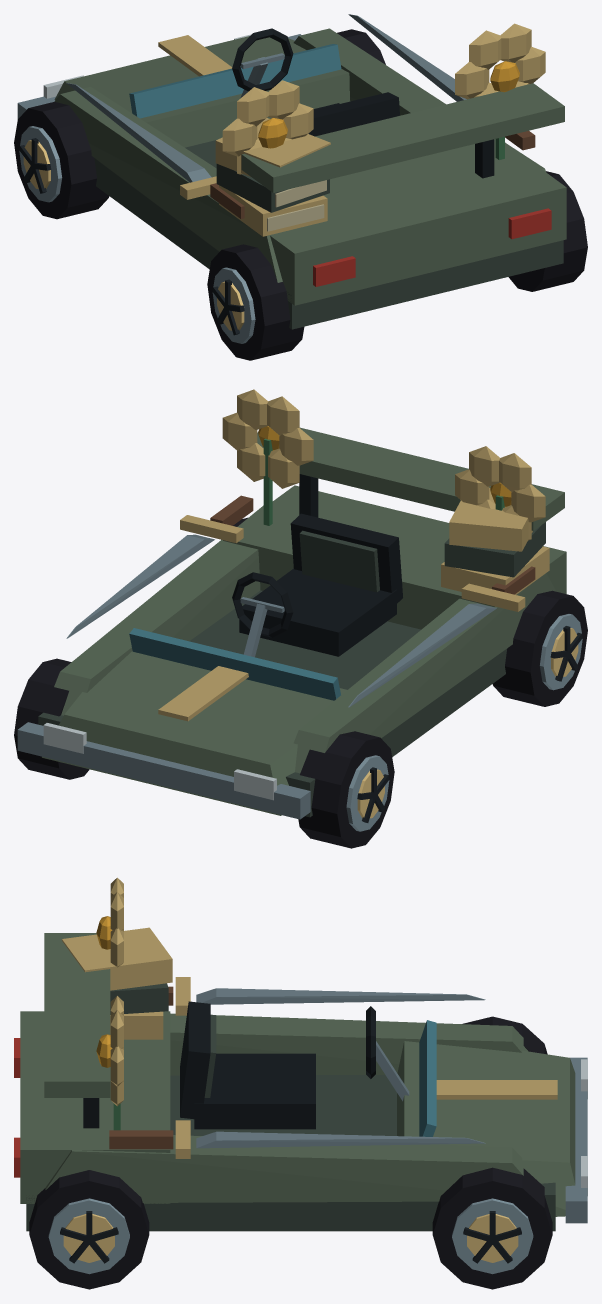
File: kart.glb
3 views of the same model, one above another, from view 1: azimuth 30°, elevation 25°; view 2: azimuth 150°, elevation 25°; view 3: azimuth 270°, elevation 25° (orthographic). The views are drawn at different scales.
Parts seen in each view (by area): view 1: identity-sports-car-sports-car-road-car-body, identity-sports-car-motif-flowers, wheel-front-left, wheel-rear-left, identity-sports-car-motif-books, identity-sports-car-motif-swords, identity-sports-car-driver-cockpit, wheel-rear-right, wheel-front-right; view 2: identity-sports-car-sports-car-road-car-body, identity-sports-car-driver-cockpit, identity-sports-car-motif-flowers, wheel-front-left, identity-sports-car-motif-swords, wheel-rear-left, identity-sports-car-motif-books, wheel-front-right; view 3: identity-sports-car-sports-car-road-car-body, identity-sports-car-driver-cockpit, wheel-front-right, wheel-rear-right, identity-sports-car-motif-swords, identity-sports-car-motif-books, identity-sports-car-motif-flowers, wheel-front-left.
Boxes of the visible parts, box(x1,y1,x2,y2) form: identity-sports-car-sports-car-road-car-body: box(17, 28, 566, 329); identity-sports-car-motif-flowers: box(222, 23, 545, 174); wheel-front-left: box(14, 102, 109, 219); wheel-rear-left: box(207, 244, 304, 360); identity-sports-car-motif-books: box(215, 118, 330, 236); identity-sports-car-motif-swords: box(66, 14, 535, 218); identity-sports-car-driver-cockpit: box(232, 28, 399, 136); wheel-rear-right: box(508, 171, 587, 291); wheel-front-right: box(337, 29, 385, 64); identity-sports-car-sports-car-road-car-body: box(17, 427, 566, 819); identity-sports-car-driver-cockpit: box(232, 513, 402, 657); identity-sports-car-motif-flowers: box(222, 389, 545, 540); wheel-front-left: box(298, 731, 394, 848); identity-sports-car-motif-swords: box(66, 495, 535, 707); wheel-rear-left: box(492, 590, 587, 706); identity-sports-car-motif-books: box(441, 488, 549, 594); wheel-front-right: box(14, 658, 89, 779); identity-sports-car-sports-car-road-car-body: box(14, 933, 587, 1231); identity-sports-car-driver-cockpit: box(180, 1001, 409, 1129); wheel-front-right: box(432, 1167, 552, 1289); wheel-rear-right: box(29, 1170, 149, 1289); identity-sports-car-motif-swords: box(109, 977, 485, 1158); identity-sports-car-motif-books: box(62, 927, 172, 1039); identity-sports-car-motif-flowers: box(96, 877, 123, 1130); wheel-front-left: box(462, 1016, 547, 1054).
Size of the model in its own units: 2.07 by 1.46 by 2.88.
